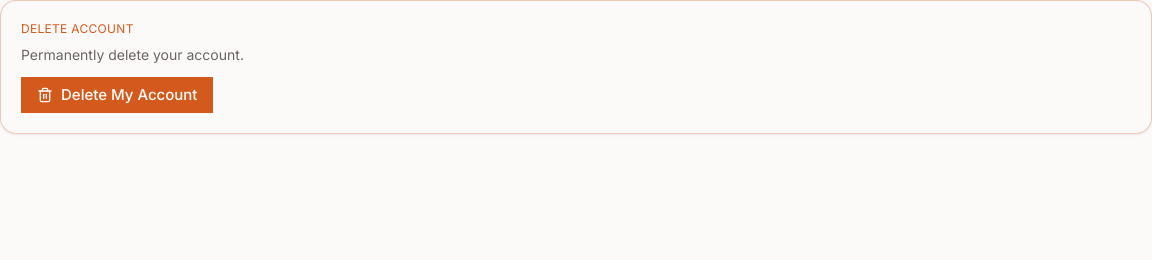
AccountDeletion › shows confirmation flow when delete button is clicked
Click the button "Delete My Account".
click(117, 95)  # box [21,77,214,113]
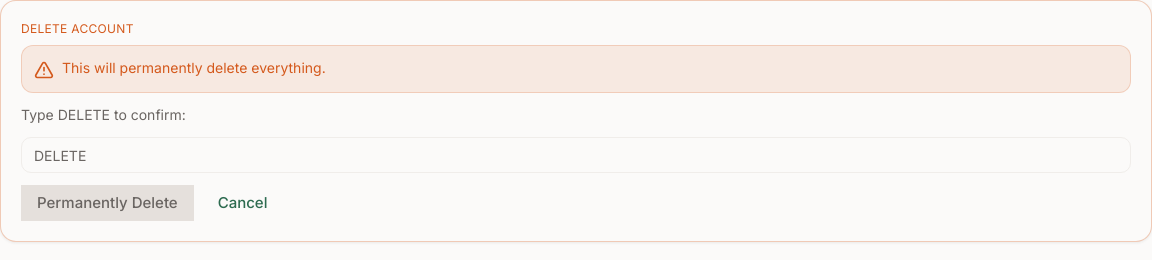
Expected: the text "Type DELETE to confirm:" is shown, [21,106,186,123]
Expected: the field with placeholder "DELETE" is shown, [21,137,1131,173]
